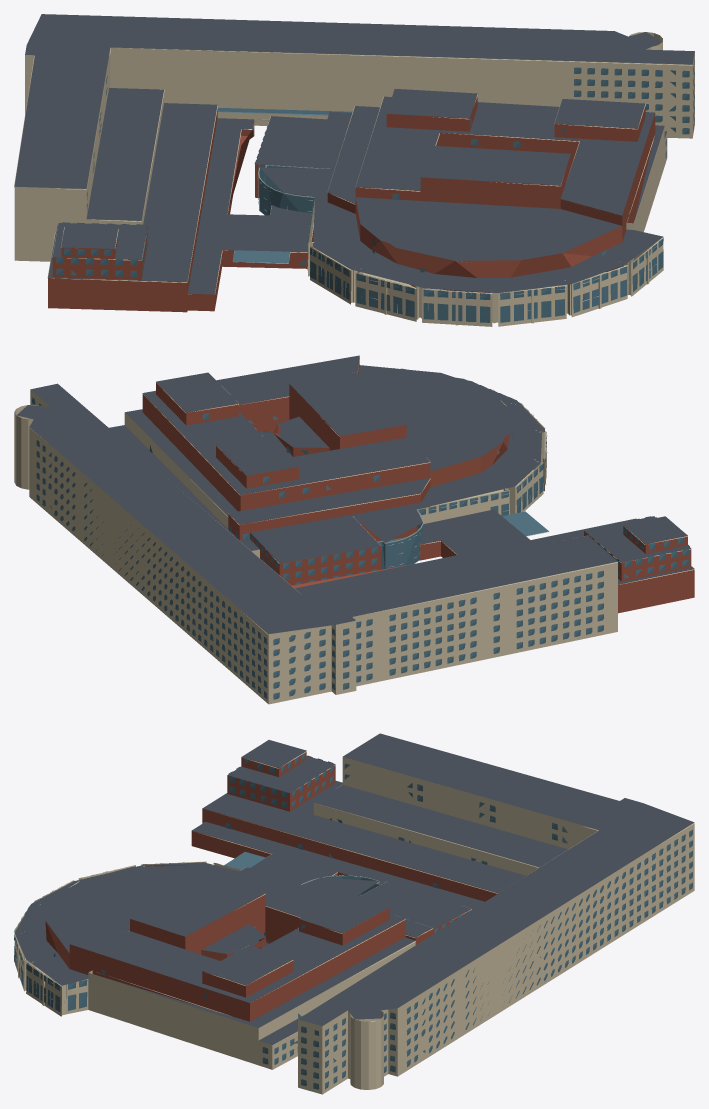
Rendered from stadhuis.lod1.glb.
The picture shows the model from 3 angles, top to bottom: view 1: azimuth 30°, elevation 25°; view 2: azimuth 150°, elevation 25°; view 3: azimuth 270°, elevation 25°; orthographic projection. The views are drawn at different scales.
Parts seen in each view (by area): view 1: stadhuis; view 2: stadhuis; view 3: stadhuis.
Part boxes in pixels (<box>): stadhuis: <box>14,14,694,326</box>; stadhuis: <box>14,355,694,704</box>; stadhuis: <box>14,733,694,1094</box>.
Size of the model in its own units: 209 by 21.98 by 198.
